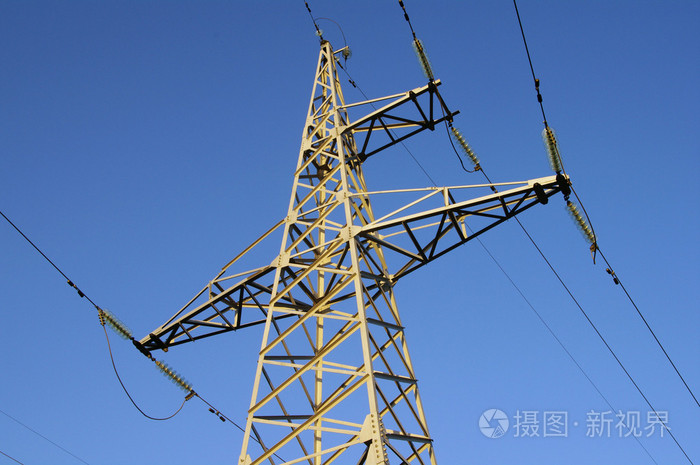insulator: (564, 200, 598, 244), (154, 359, 192, 394), (407, 40, 439, 79), (452, 129, 483, 169), (541, 125, 562, 173), (103, 309, 133, 339)
